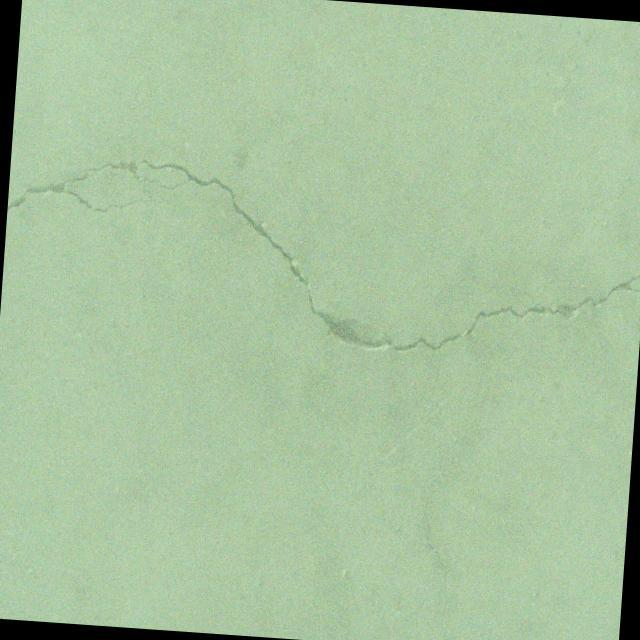crack: (0, 149, 640, 408), (412, 438, 461, 640), (434, 399, 446, 434)
